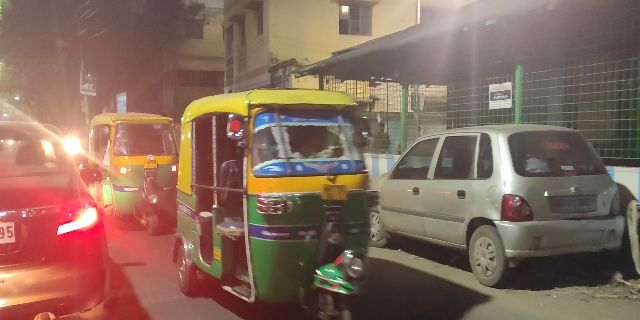Autorickshaw: (182, 91, 375, 296), (91, 109, 173, 230)
Car: (405, 121, 621, 288)
